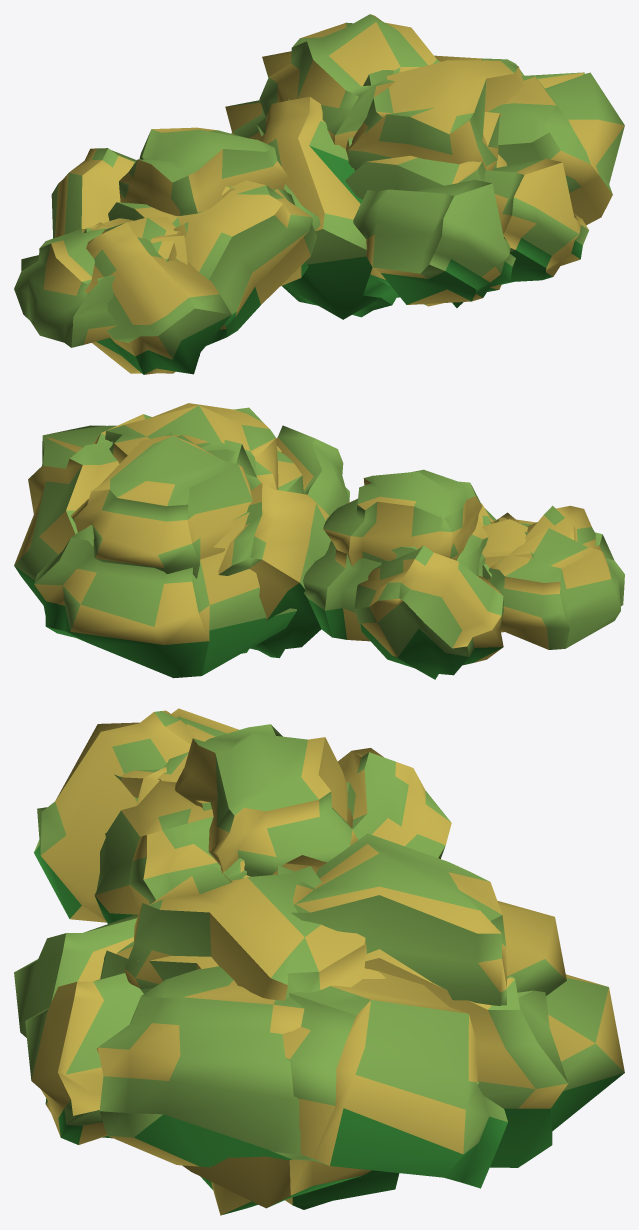
The model's file is Leaf0.1.fbx.
3 renders of one model, top to bottom at view 1: azimuth 30°, elevation 25°; view 2: azimuth 150°, elevation 25°; view 3: azimuth 270°, elevation 25°, orthographic. The views are drawn at different scales.
Parts seen in each view (by area): view 1: pasted__pasted__polySurface23; view 2: pasted__pasted__polySurface23; view 3: pasted__pasted__polySurface23.
Part boxes in pixels (bbox=[...]): pasted__pasted__polySurface23: bbox=[14, 14, 624, 374]; pasted__pasted__polySurface23: bbox=[14, 403, 624, 679]; pasted__pasted__polySurface23: bbox=[14, 708, 624, 1215].
Size of the model in its own units: 17.15 by 6.81 by 11.29.
